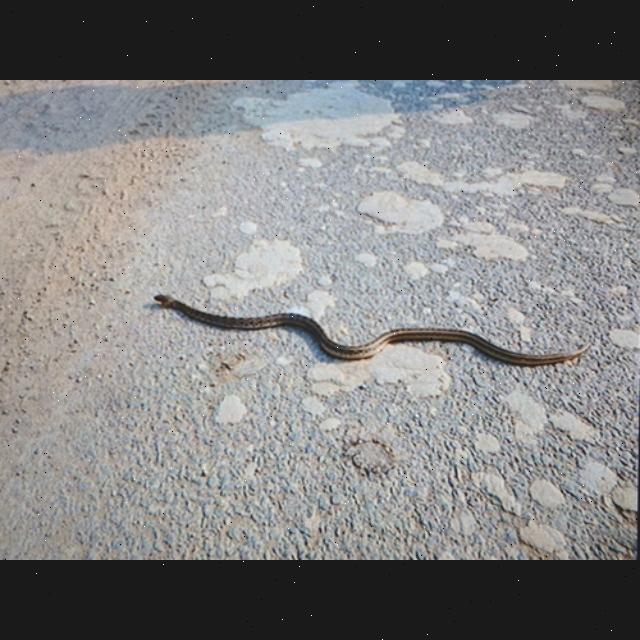snake: (150, 293, 588, 375)
